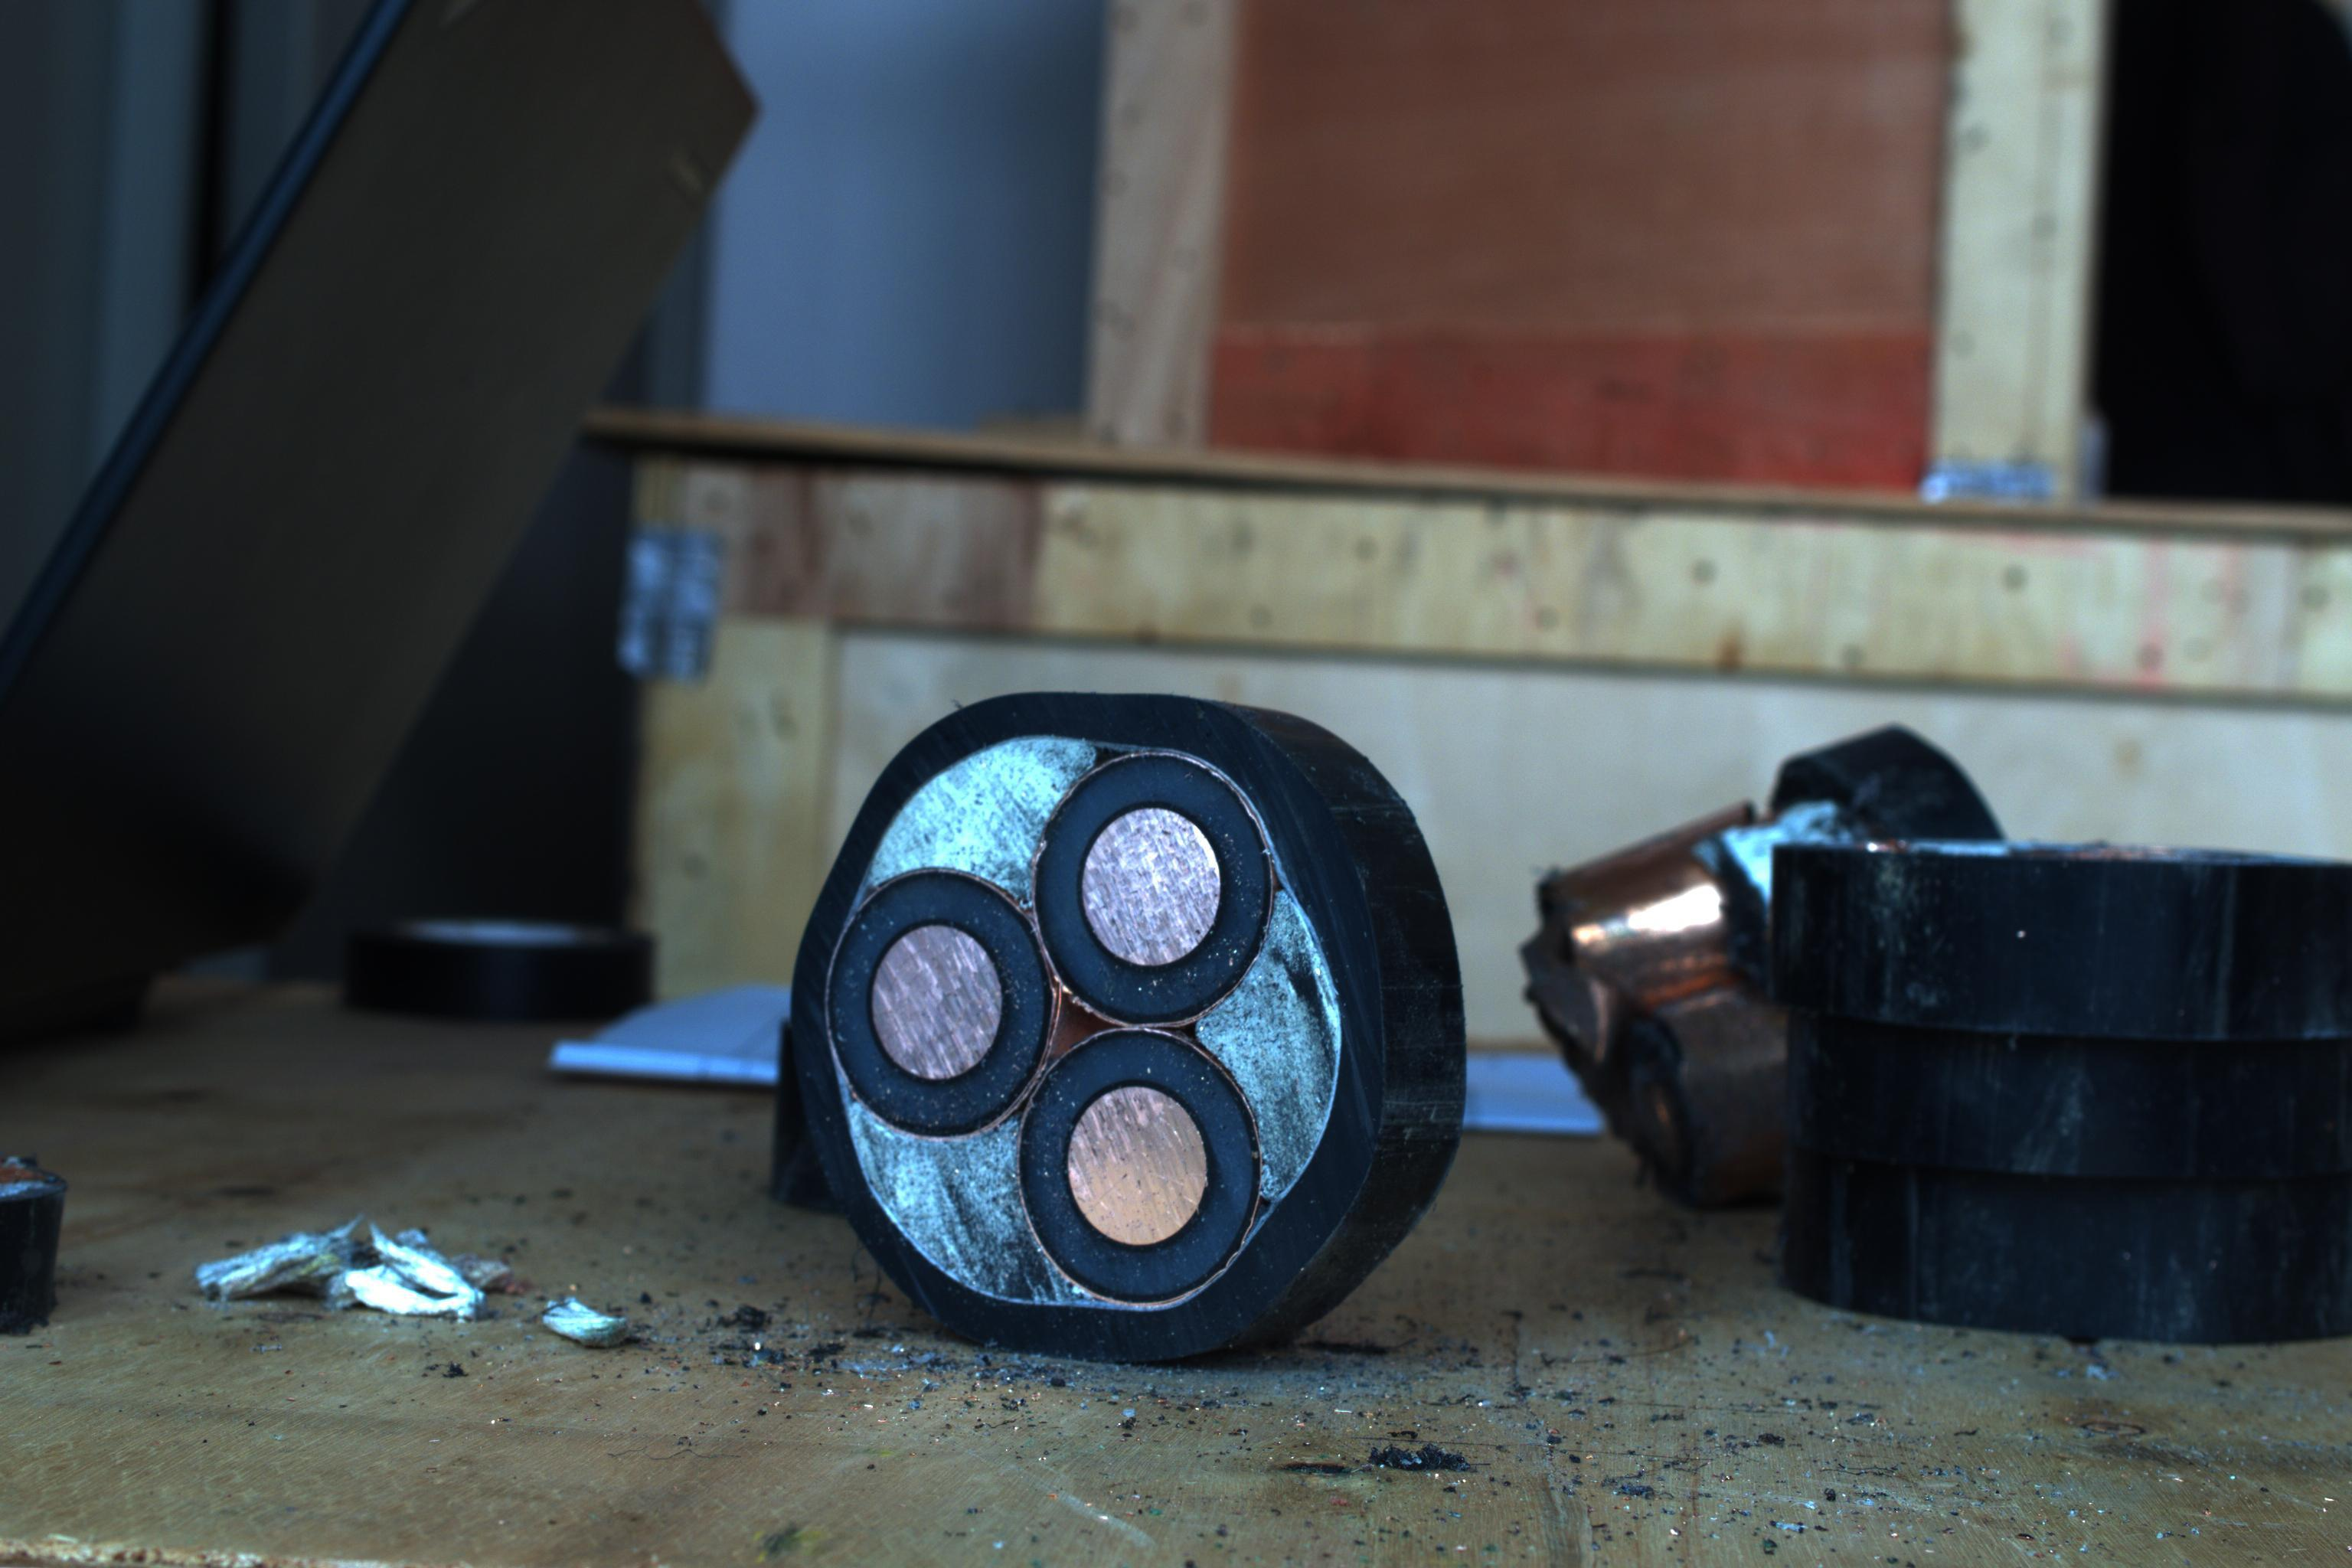ZA_YJV_8.7_10kV_3x240: (794, 702, 1396, 1351)
